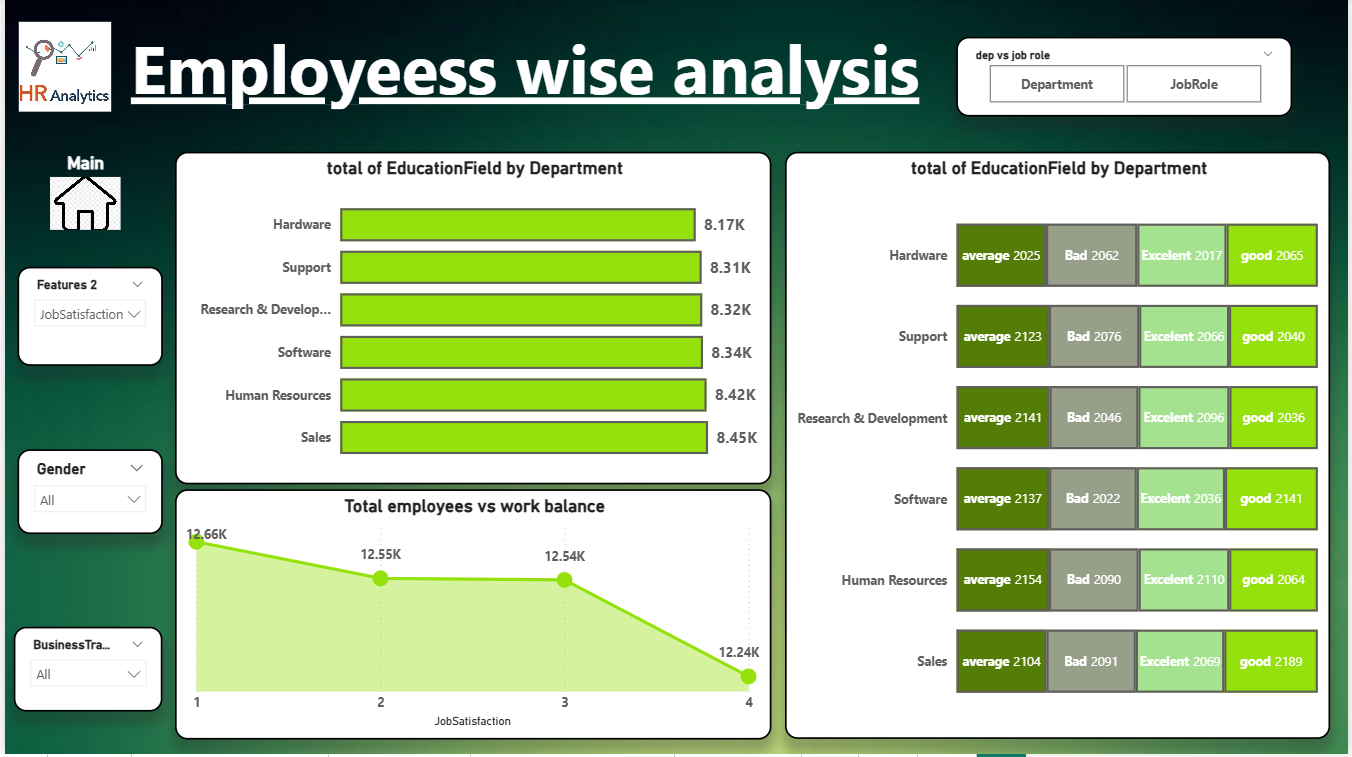

What the dashboard file says about the page in this screenshot:
{"tool":"powerbi","page":{"name":"1","canvas":[1280,720],"ordinal":1},"visuals":[{"type":"shape","box":[67.9,15.5,854.8,97.6],"z":0},{"type":"clusteredBarChart","title":"total of EducationField by Department","fields":{"Category":["HR_1.Department","HR_1.JobRole"],"Y":["CountNonNull(HR_1.EducationField)"]},"box":[161.9,146.4,567.9,316.7],"z":1000},{"type":"hundredPercentStackedBarChart","title":"total of EducationField by Department","fields":{"Category":["HR_1.Department","HR_1.JobRole"],"Series":["HR_2.work balance status"],"Y":["HR_1.Total No of Employees"]},"box":[742.9,146.4,519.1,559.5],"z":2000},{"type":"lineChart","title":"Total employees vs work balance","fields":{"Category":["HR_1.JobSatisfaction"],"Y":["CountNonNull(HR_2.work balance status)"]},"box":[161.9,467.9,567.9,238.1],"z":3000},{"type":"slicer","fields":{"Values":["Features.Features"]},"box":[906,36.9,320.2,76.2],"z":4000},{"type":"group","id":"g1","title":"Group 1","box":[8.3,255.9,141.7,423.8],"z":4000,"group":"g2"},{"type":"group","id":"g2","title":"Group 2","box":[8.3,146.4,141.7,533.3],"z":5000},{"type":"slicer","fields":{"Values":["job satifaction vs work balance.Features 2"]},"box":[11.9,255.9,138.1,94],"z":5000,"group":"g1"},{"type":"image","title":"Main","box":[38.1,146.4,77.4,79.8],"z":5001,"group":"g2"},{"type":"image","box":[8.3,17.9,97.6,95.2],"z":6000},{"type":"slicer","fields":{"Values":["HR_1.Gender"]},"box":[11.9,429.7,138.1,81],"z":6000,"group":"g1"},{"type":"slicer","fields":{"Values":["HR_1.BusinessTravel"]},"box":[8.3,598.8,141.7,81],"z":7000,"group":"g1"}]}

Visuals, with their boxes in screenshot pixels (x1, y1, x2, y2), scaled from the page's 1280x720 canvas onto the 1352x757 screenshot:
shape: rect(72, 16, 975, 119)
"total of EducationField by Department" clusteredBarChart: rect(171, 154, 771, 487)
"total of EducationField by Department" hundredPercentStackedBarChart: rect(785, 154, 1333, 742)
"Total employees vs work balance" lineChart: rect(171, 492, 771, 742)
slicer - Features.Features: rect(957, 39, 1295, 119)
"Group 1" group: rect(9, 269, 158, 715)
"Group 2" group: rect(9, 154, 158, 715)
slicer - job satifaction vs work balance.Features 2: rect(13, 269, 158, 368)
"Main" image: rect(40, 154, 122, 238)
image: rect(9, 19, 112, 119)
slicer - HR_1.Gender: rect(13, 452, 158, 537)
slicer - HR_1.BusinessTravel: rect(9, 630, 158, 715)
